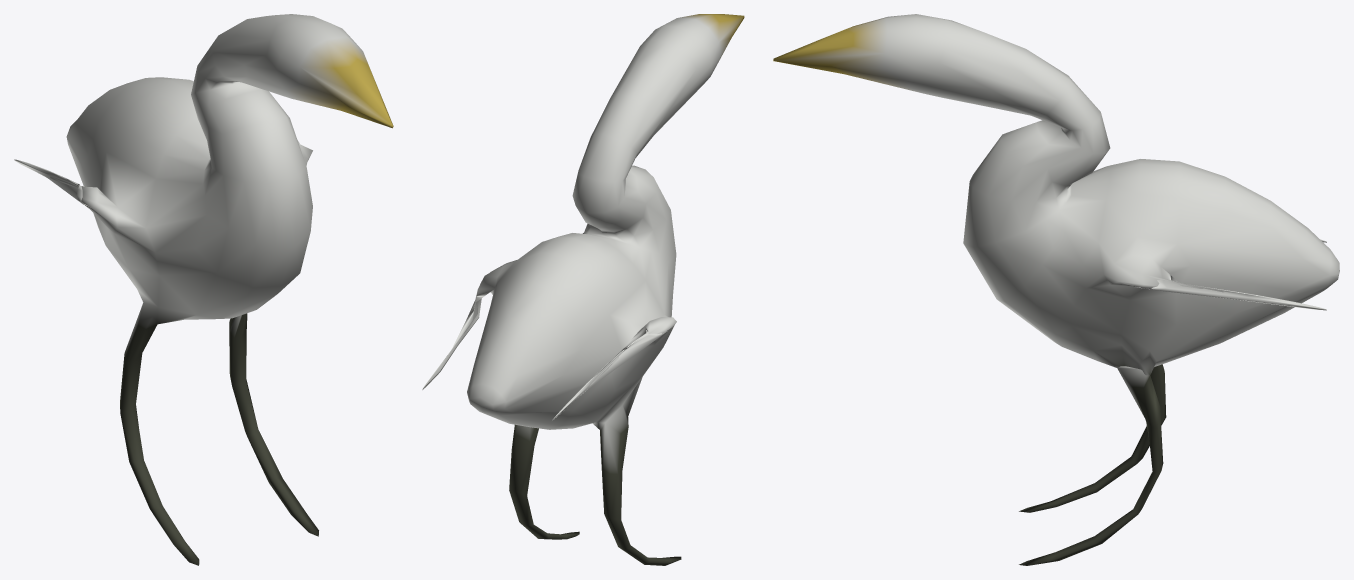
File: pond-heron-0.glb
The picture shows the model from 3 angles, left to right: view 1: azimuth 30°, elevation 25°; view 2: azimuth 150°, elevation 25°; view 3: azimuth 270°, elevation 25°; orthographic projection. The views are drawn at different scales.
Parts seen in each view (by area): view 1: pond-heron; view 2: pond-heron; view 3: pond-heron.
Boxes of the visible parts, x1,y1,x2,y2 form: pond-heron: [14, 14, 393, 565]; pond-heron: [422, 14, 744, 565]; pond-heron: [773, 14, 1339, 565].
Size of the model in its own units: 0.2023 by 0.4997 by 0.4935.
